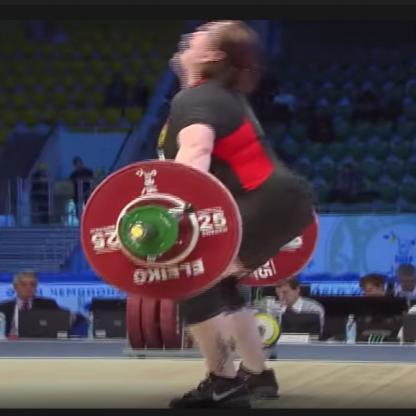barbell: (82, 163, 240, 296)
